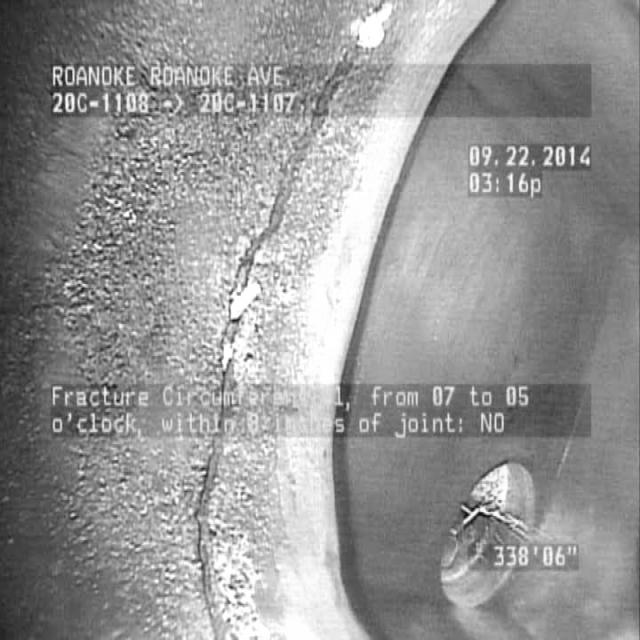Fracture: (204, 46, 296, 620)
